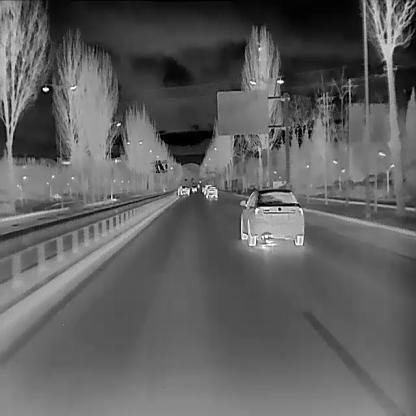car: (238, 184, 304, 246), (204, 184, 218, 198), (177, 184, 190, 195), (204, 184, 212, 194), (191, 184, 196, 191), (201, 184, 204, 192), (196, 183, 199, 187), (198, 180, 200, 182)
